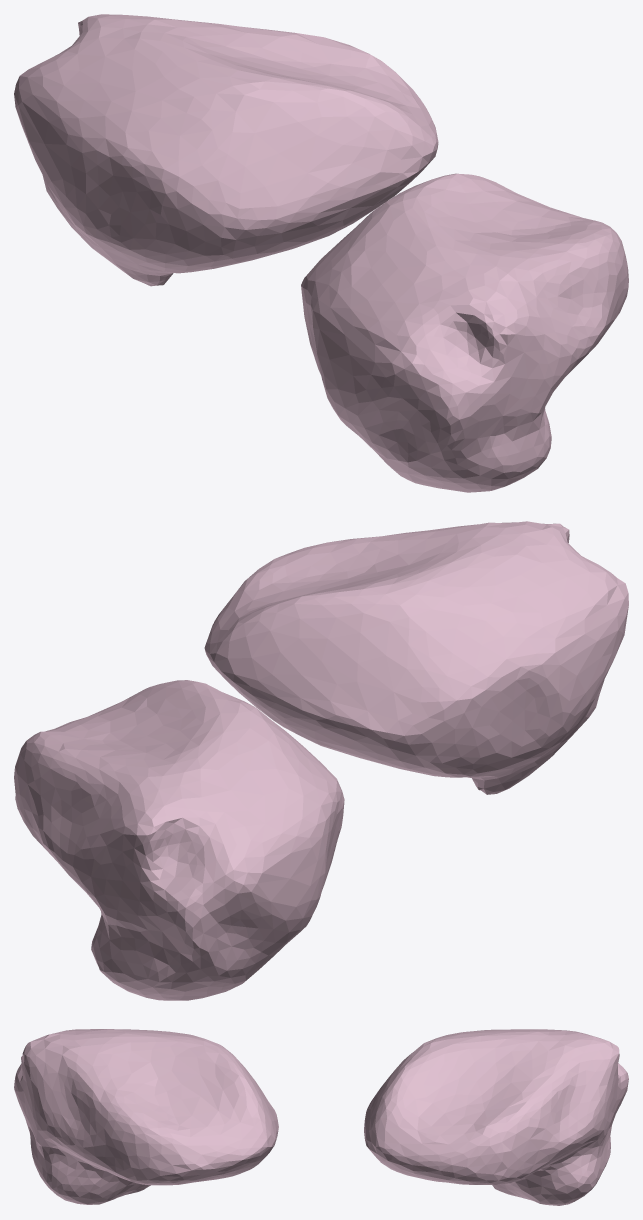
3 renders of one model, top to bottom at view 1: azimuth 30°, elevation 25°; view 2: azimuth 150°, elevation 25°; view 3: azimuth 270°, elevation 25°, orthographic. The views are drawn at different scales.
Parts seen in each view (by area): view 1: 701.obj; view 2: 701.obj; view 3: 701.obj.
Boxes of the visible parts, x1,y1,x2,y2 form: 701.obj: (14, 14, 628, 492); 701.obj: (14, 521, 628, 1000); 701.obj: (14, 1029, 628, 1205).
Size of the model in its own units: 1751 by 1236 by 4110.
